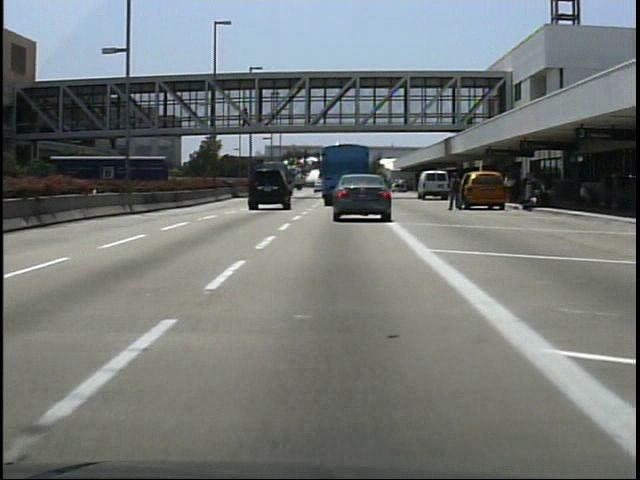person: (448, 174, 467, 217), (301, 106, 315, 134), (238, 104, 254, 128)
